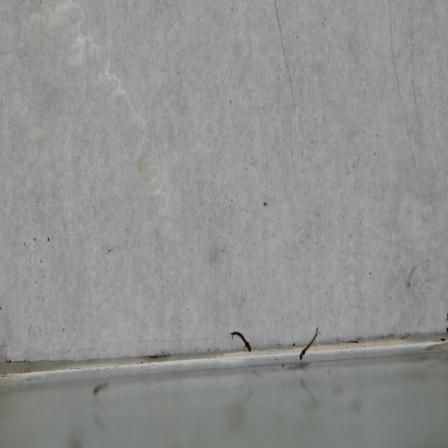Jentik-Nyamuk: (229, 326, 253, 357), (299, 327, 321, 360)
